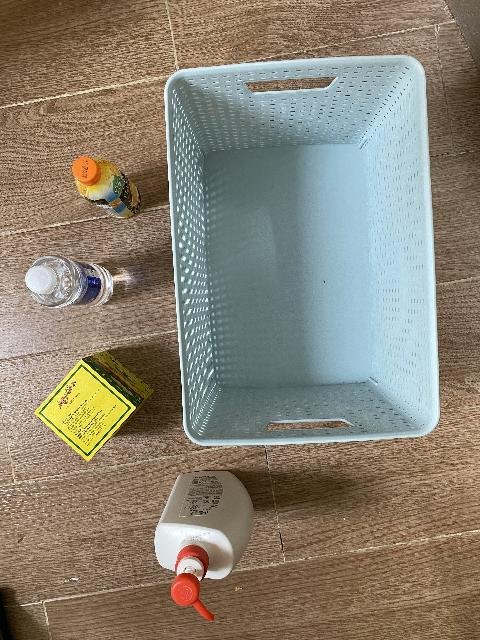aquafina: (25, 255, 113, 309)
cart: (163, 55, 441, 450)
life-buoy: (154, 470, 254, 622)
luong_kho: (33, 351, 153, 462)
teppy_orange_juice: (72, 157, 141, 219)
